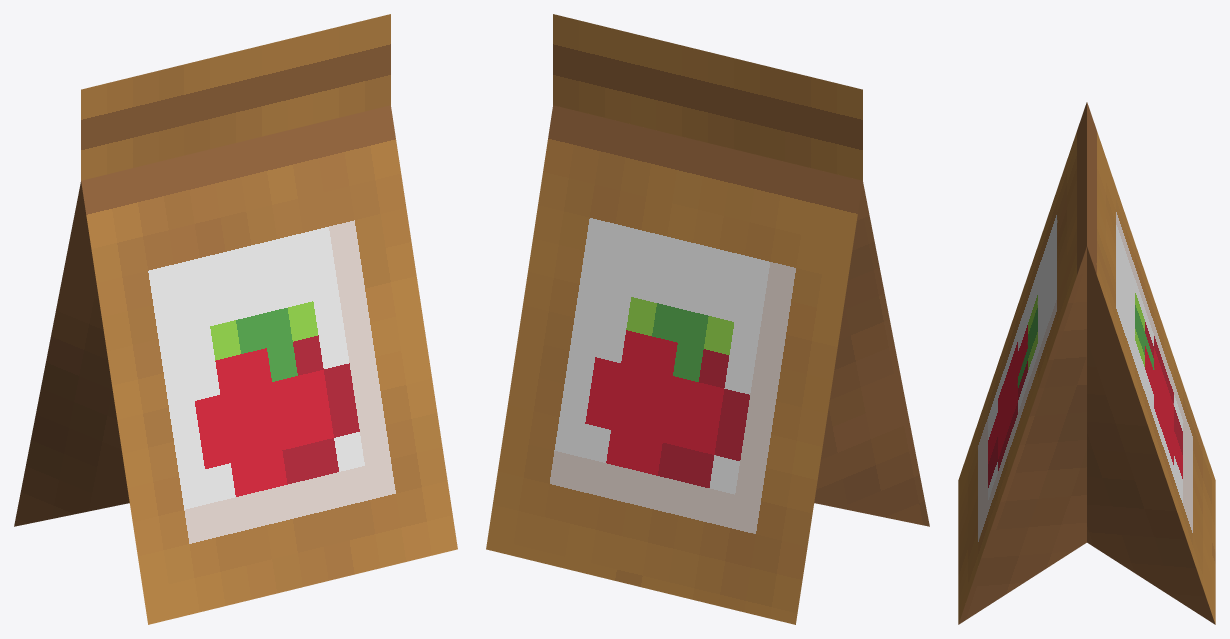
File: tomato_seeds-optimized.glb
The picture shows the model from 3 angles, left to right: view 1: azimuth 30°, elevation 25°; view 2: azimuth 150°, elevation 25°; view 3: azimuth 270°, elevation 25°; orthographic projection. The views are drawn at different scales.
Visible parts, largest first — view 1: cuboid; view 2: cuboid; view 3: cuboid.
Boxes of the visible parts, bbox=[...] form: cuboid: bbox=[14, 14, 457, 624]; cuboid: bbox=[486, 14, 929, 624]; cuboid: bbox=[958, 102, 1215, 624].
Size of the model in its own units: 0.5 by 0.75 by 0.375.
1 material, 1 textured.
